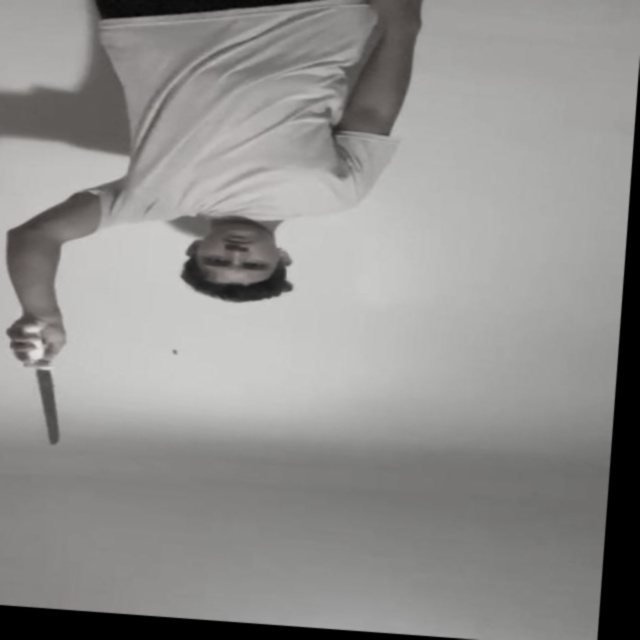Sharp-Object: (32, 373, 67, 445)
